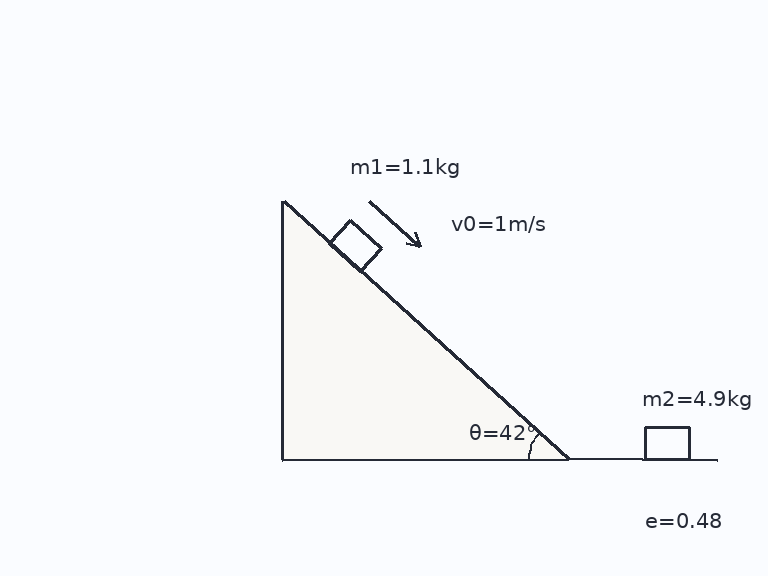block: (327, 218, 383, 273), (643, 425, 691, 461)
ramp: (281, 199, 571, 461)
